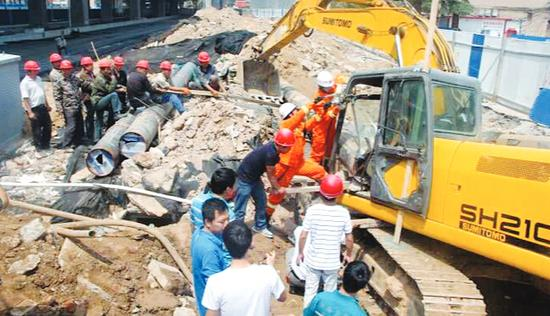excavator: (238, 7, 550, 316)
